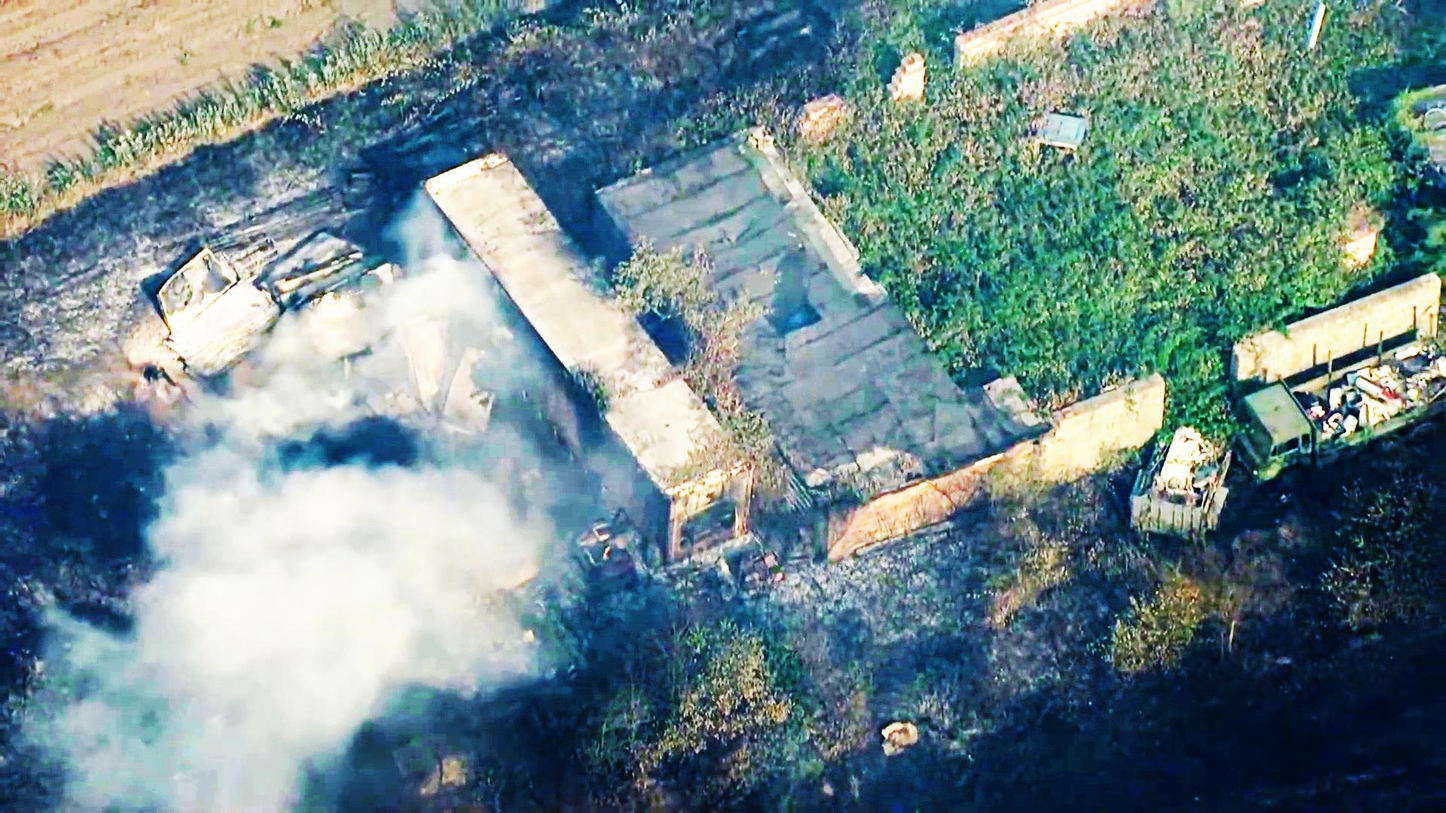smoke: (155, 465, 537, 691)
